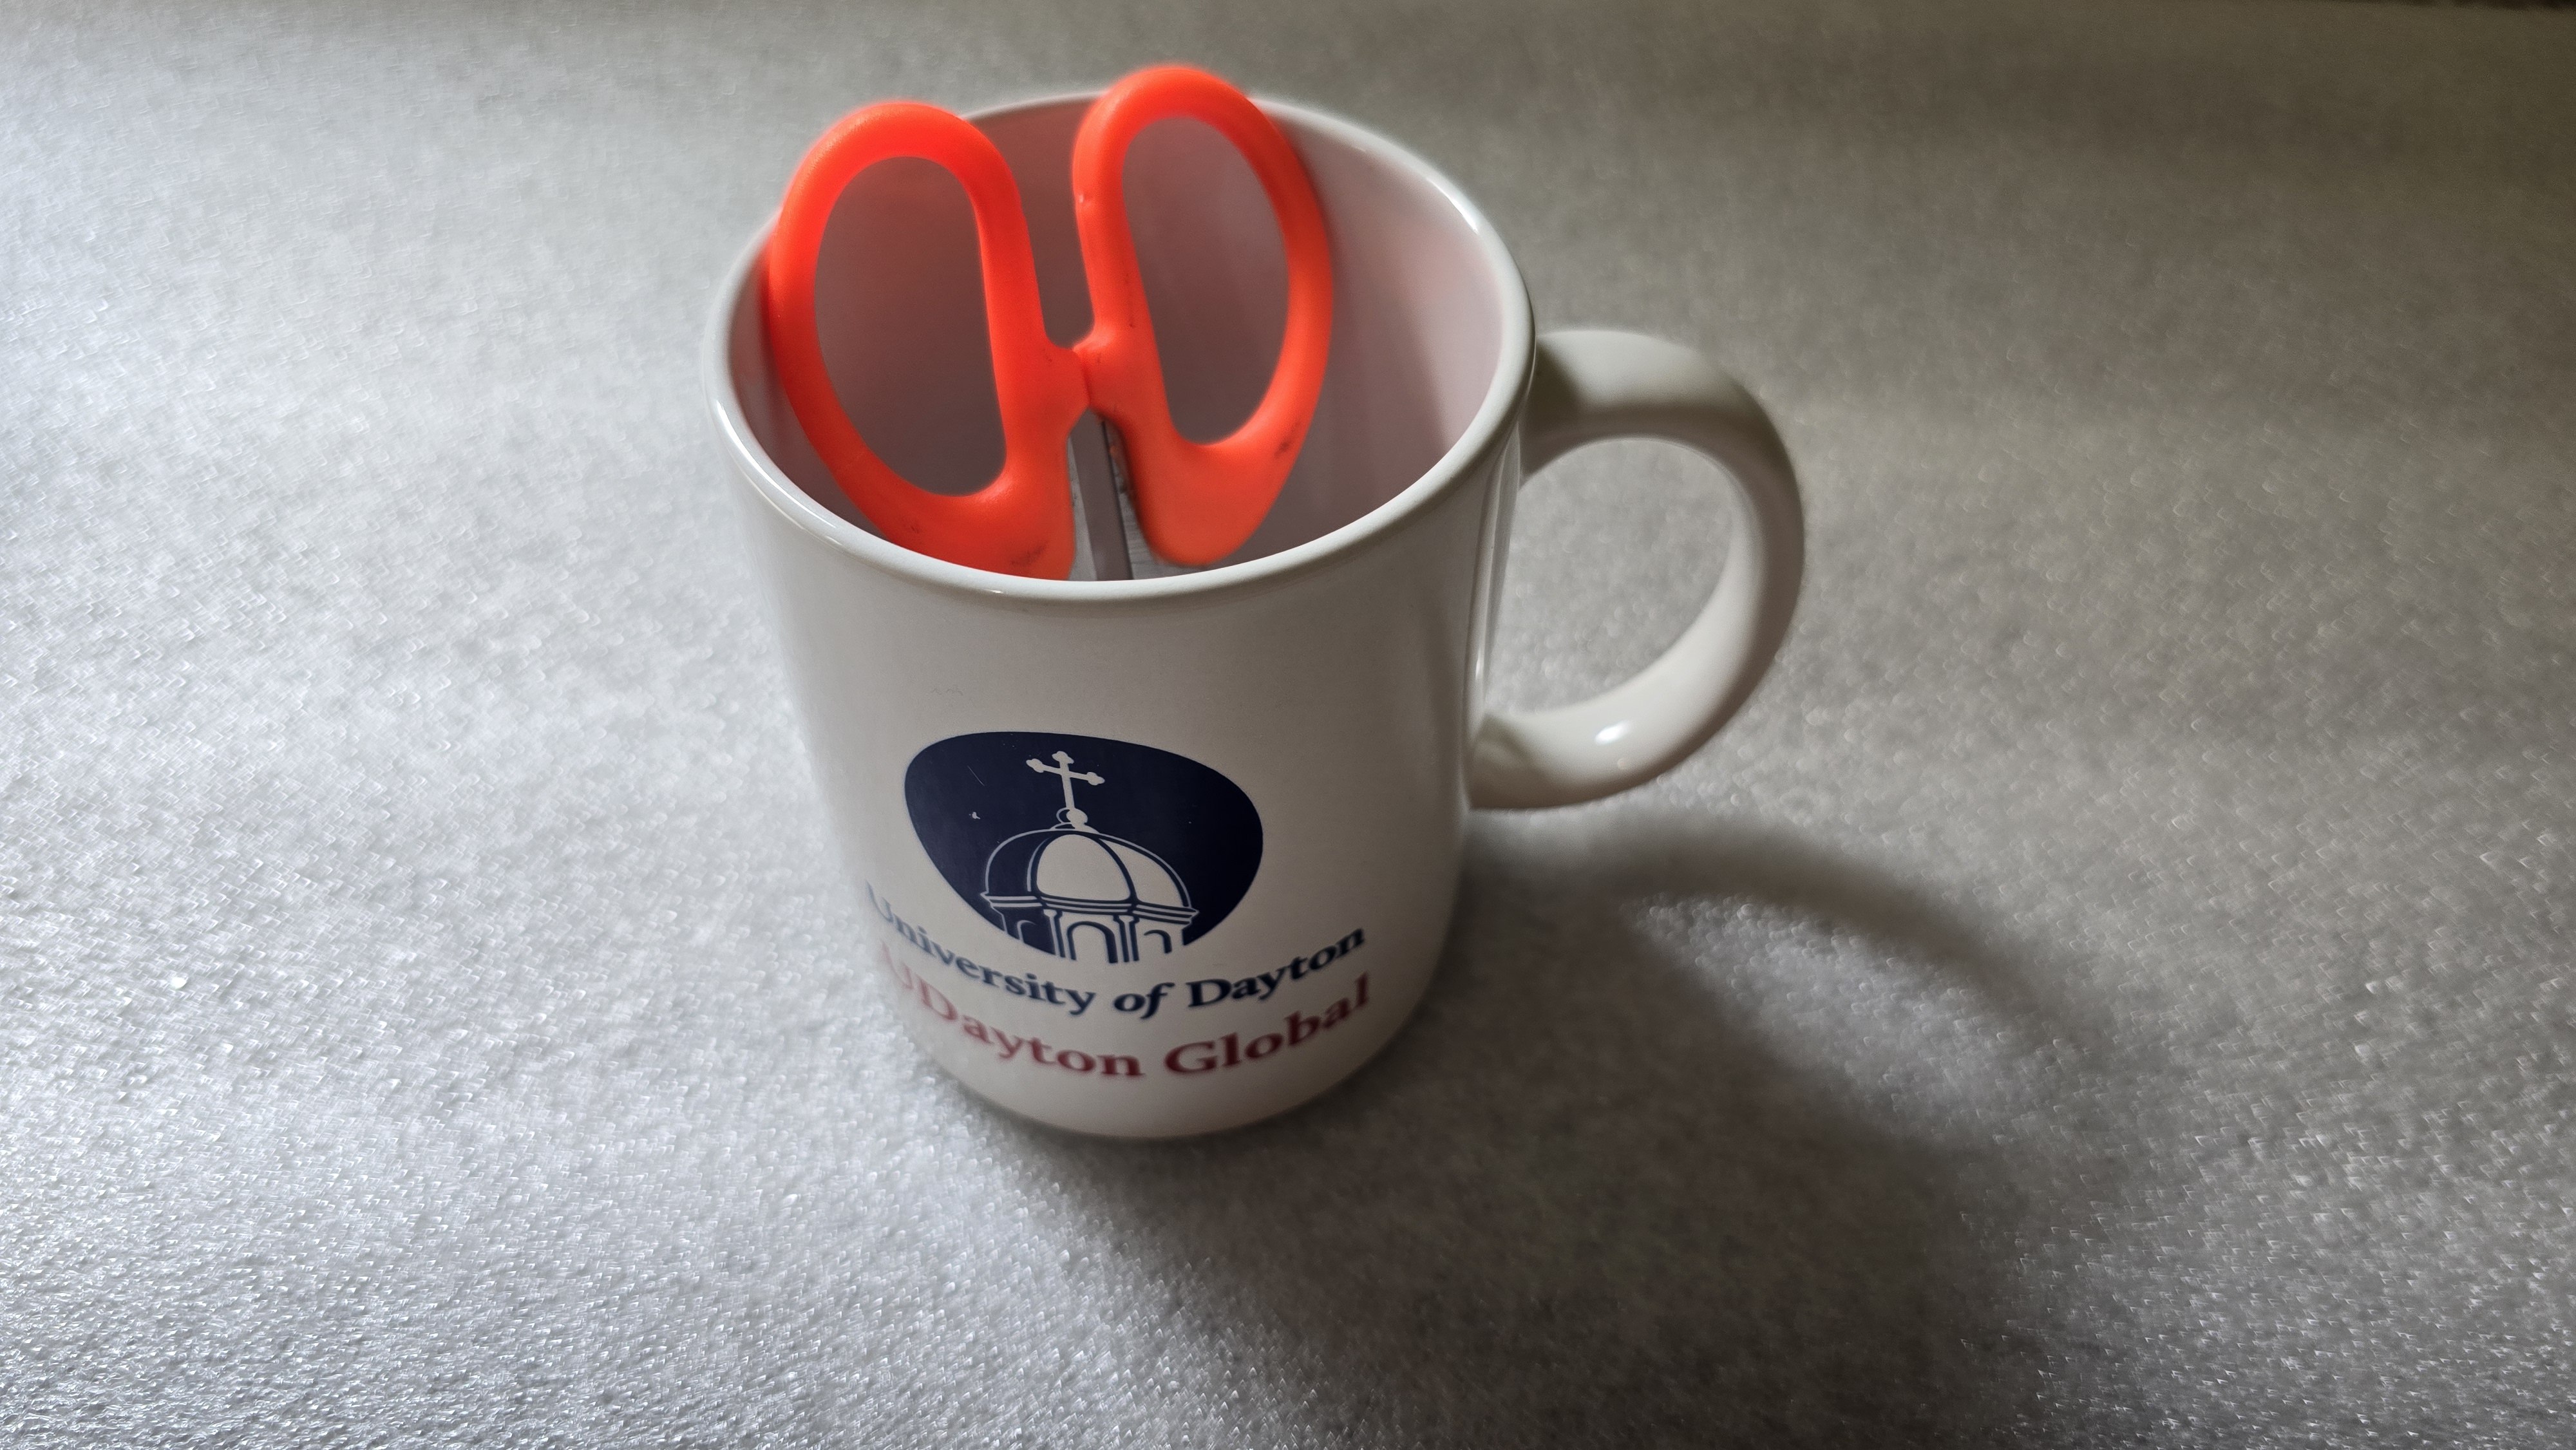mug: (676, 65, 1884, 1144)
